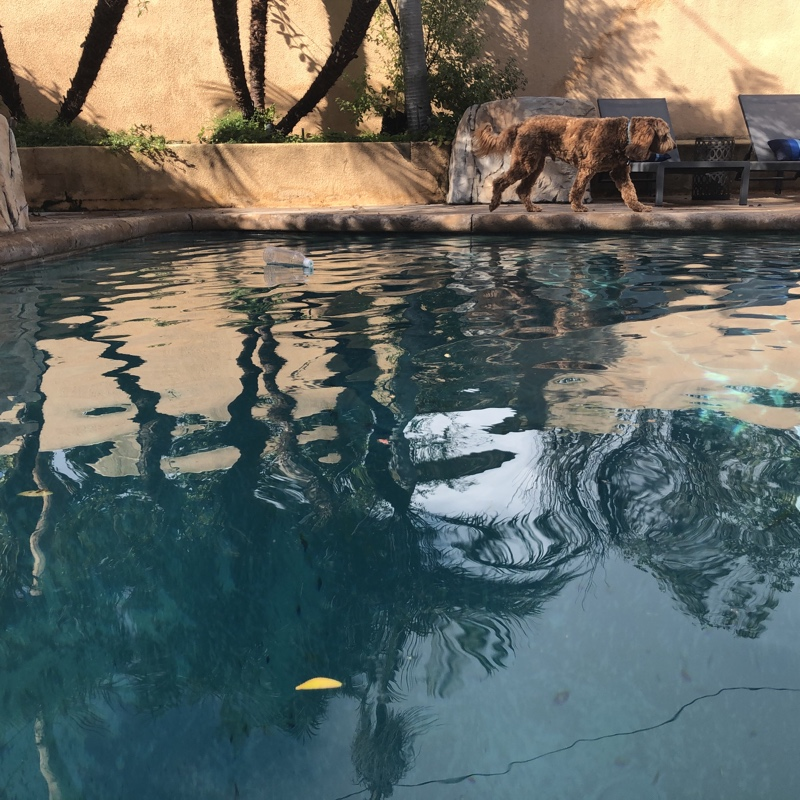Plastic Bottle: (261, 242, 313, 271)
